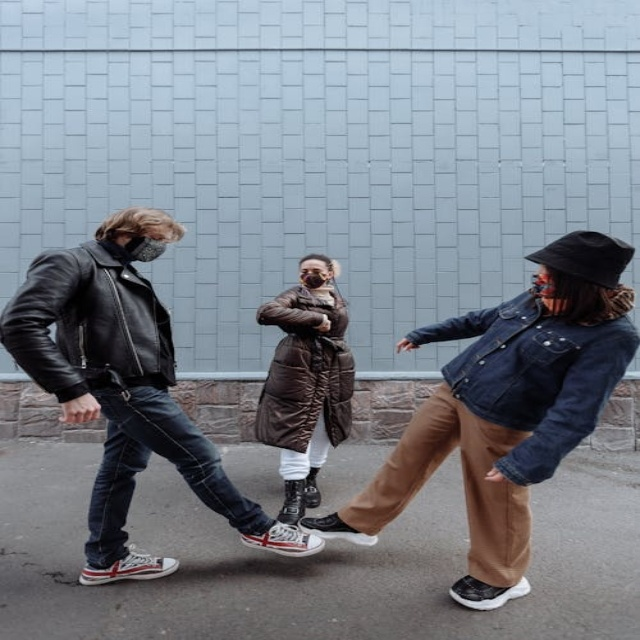Mascara: (131, 237, 168, 262), (530, 272, 556, 297), (302, 272, 327, 288)
Sin_gafas: (300, 268, 330, 275)
Sin_guantes: (51, 391, 104, 428)
